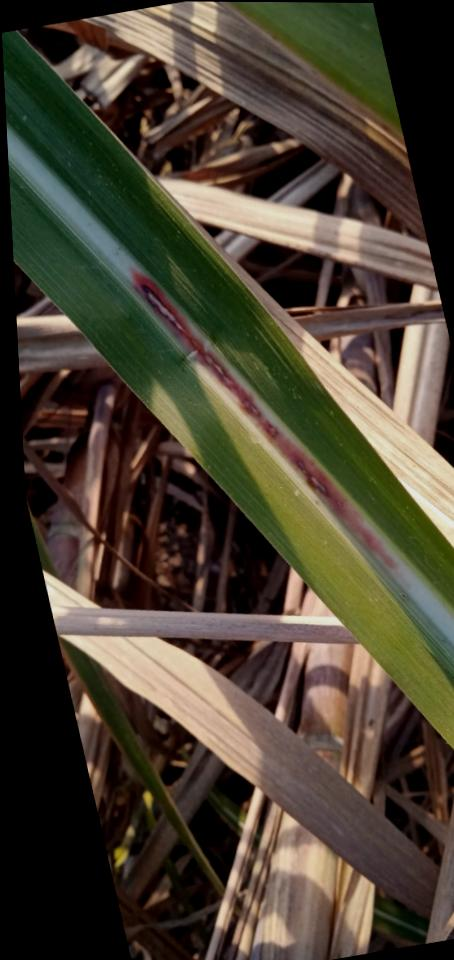RedRot: (129, 267, 402, 571)
